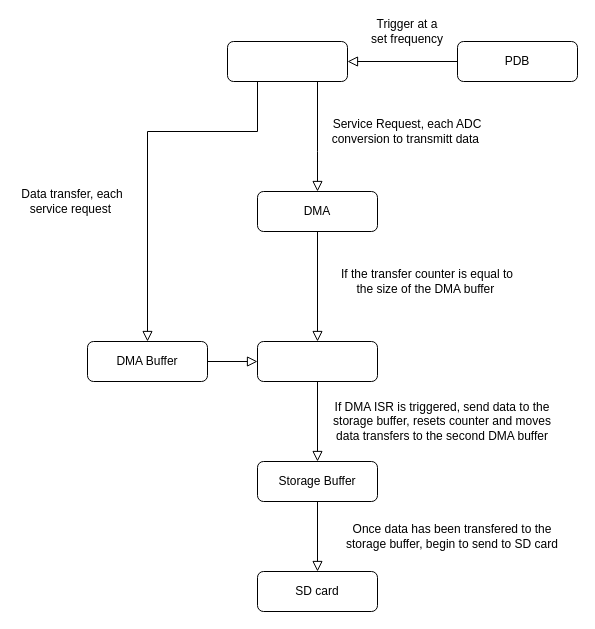
Some shapes in this 595 by 629 pixel diagram are drawn without their labels. The box of each missing label's shape, as (x1, y1, x2, y2) in pixels:
ADC: (226, 40, 348, 82)
DMA ISR: (256, 340, 378, 382)
